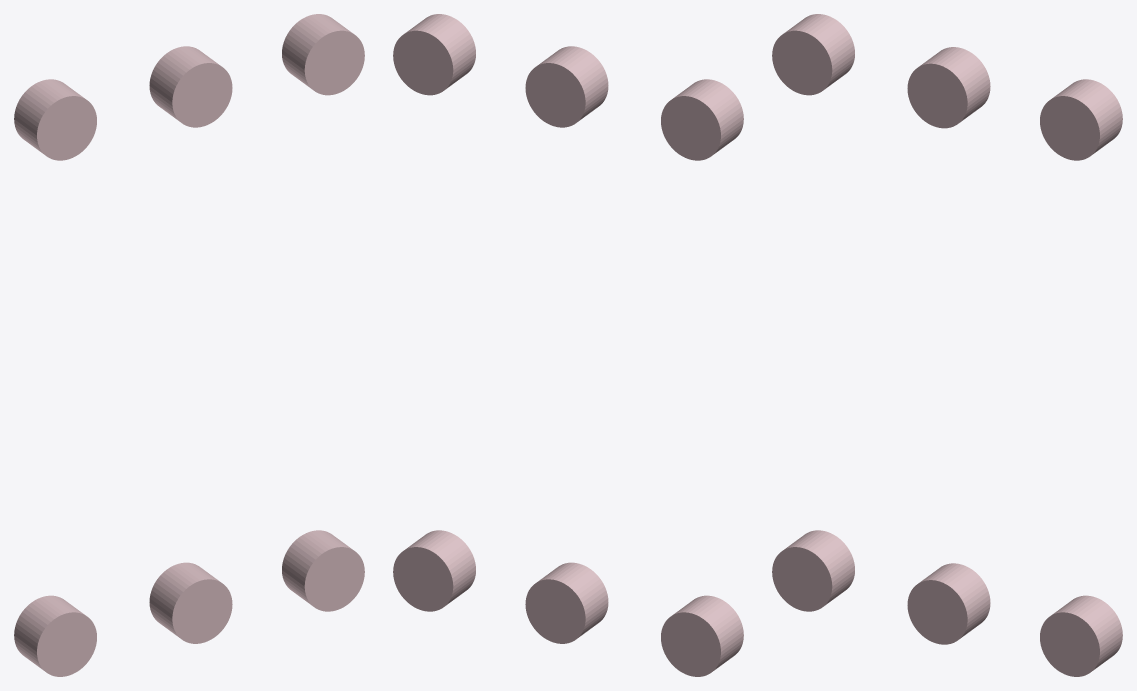
The model's file is regional_position_settings_slow.glb.
3 renders of one model, left to right at view 1: azimuth 30°, elevation 25°; view 2: azimuth 150°, elevation 25°; view 3: azimuth 330°, elevation 25°, orthographic.
Parts seen in each view (by area): view 1: world; view 2: world; view 3: world.
Boxes of the visible parts, x1,y1,x2,y2 form: world: (14,14,364,676); world: (393,14,743,676); world: (772,14,1122,676).
Size of the model in its own units: 0.8284 by 1.4 by 0.1.
